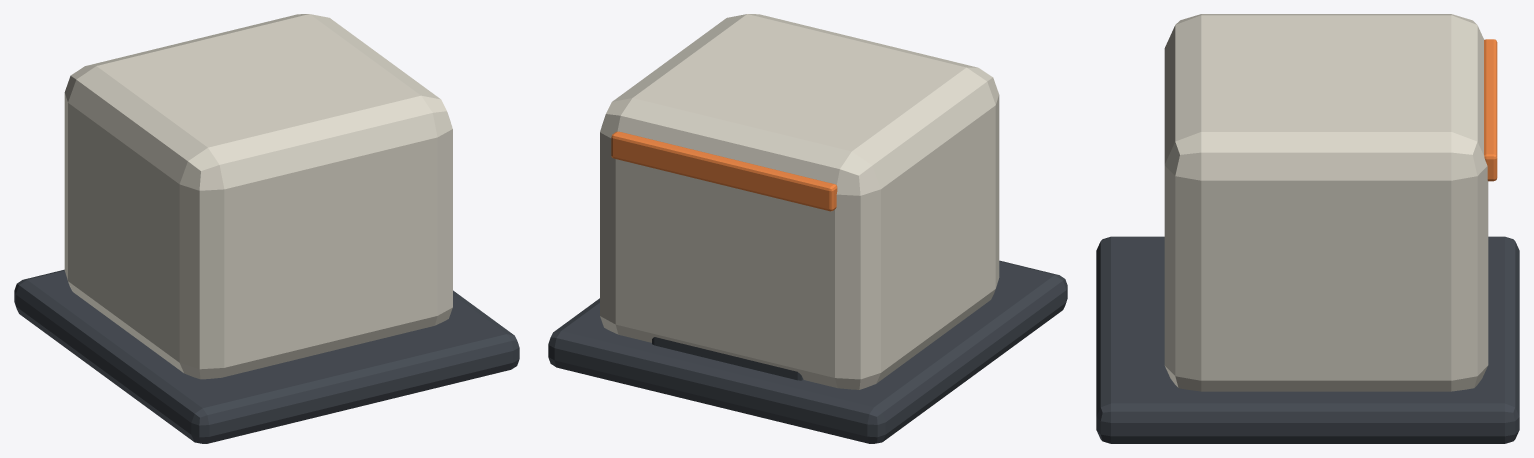
The model's file is human_barracks_t1.glb.
3 views of the same model, side by side, from view 1: azimuth 30°, elevation 25°; view 2: azimuth 150°, elevation 25°; view 3: azimuth 270°, elevation 25° (orthographic). The views are drawn at different scales.
Parts seen in each view (by area): view 1: bay, muster_pad; view 2: bay, muster_pad, doctrine_light, deployment_door; view 3: bay, muster_pad, doctrine_light.
Part boxes in pixels (x1,y1,x2,y2): bay: (64,14,452,379); muster_pad: (14,269,519,443); bay: (600,14,999,389); muster_pad: (548,260,1067,443); doctrine_light: (611,131,837,211); deployment_door: (652,337,803,380); bay: (1164,14,1488,391); muster_pad: (1096,236,1519,443); doctrine_light: (1484,39,1497,181).
Bounding box in the file's own units: 2.3 × 1.72 × 2.3.
